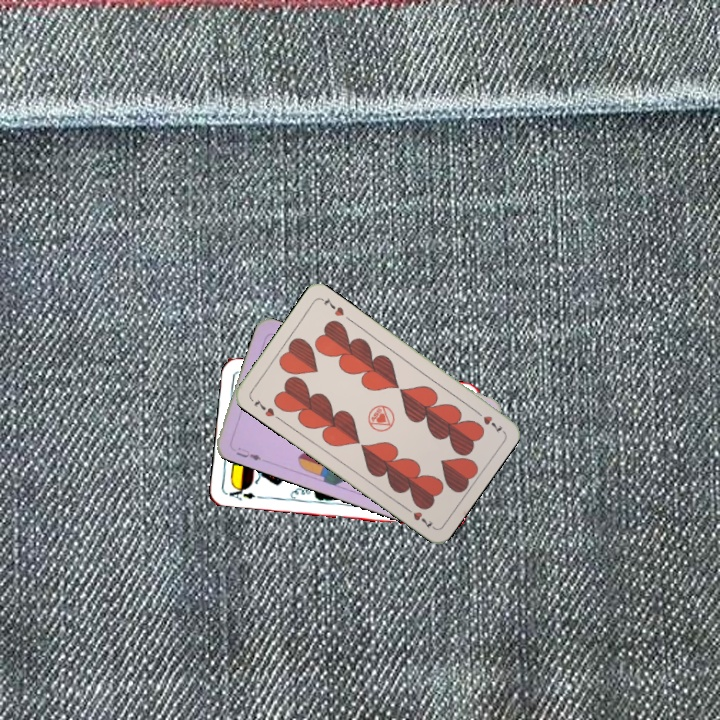EA: (224, 482, 258, 502)
EU: (232, 443, 264, 463)
H7: (471, 405, 505, 435), (250, 395, 277, 419)
